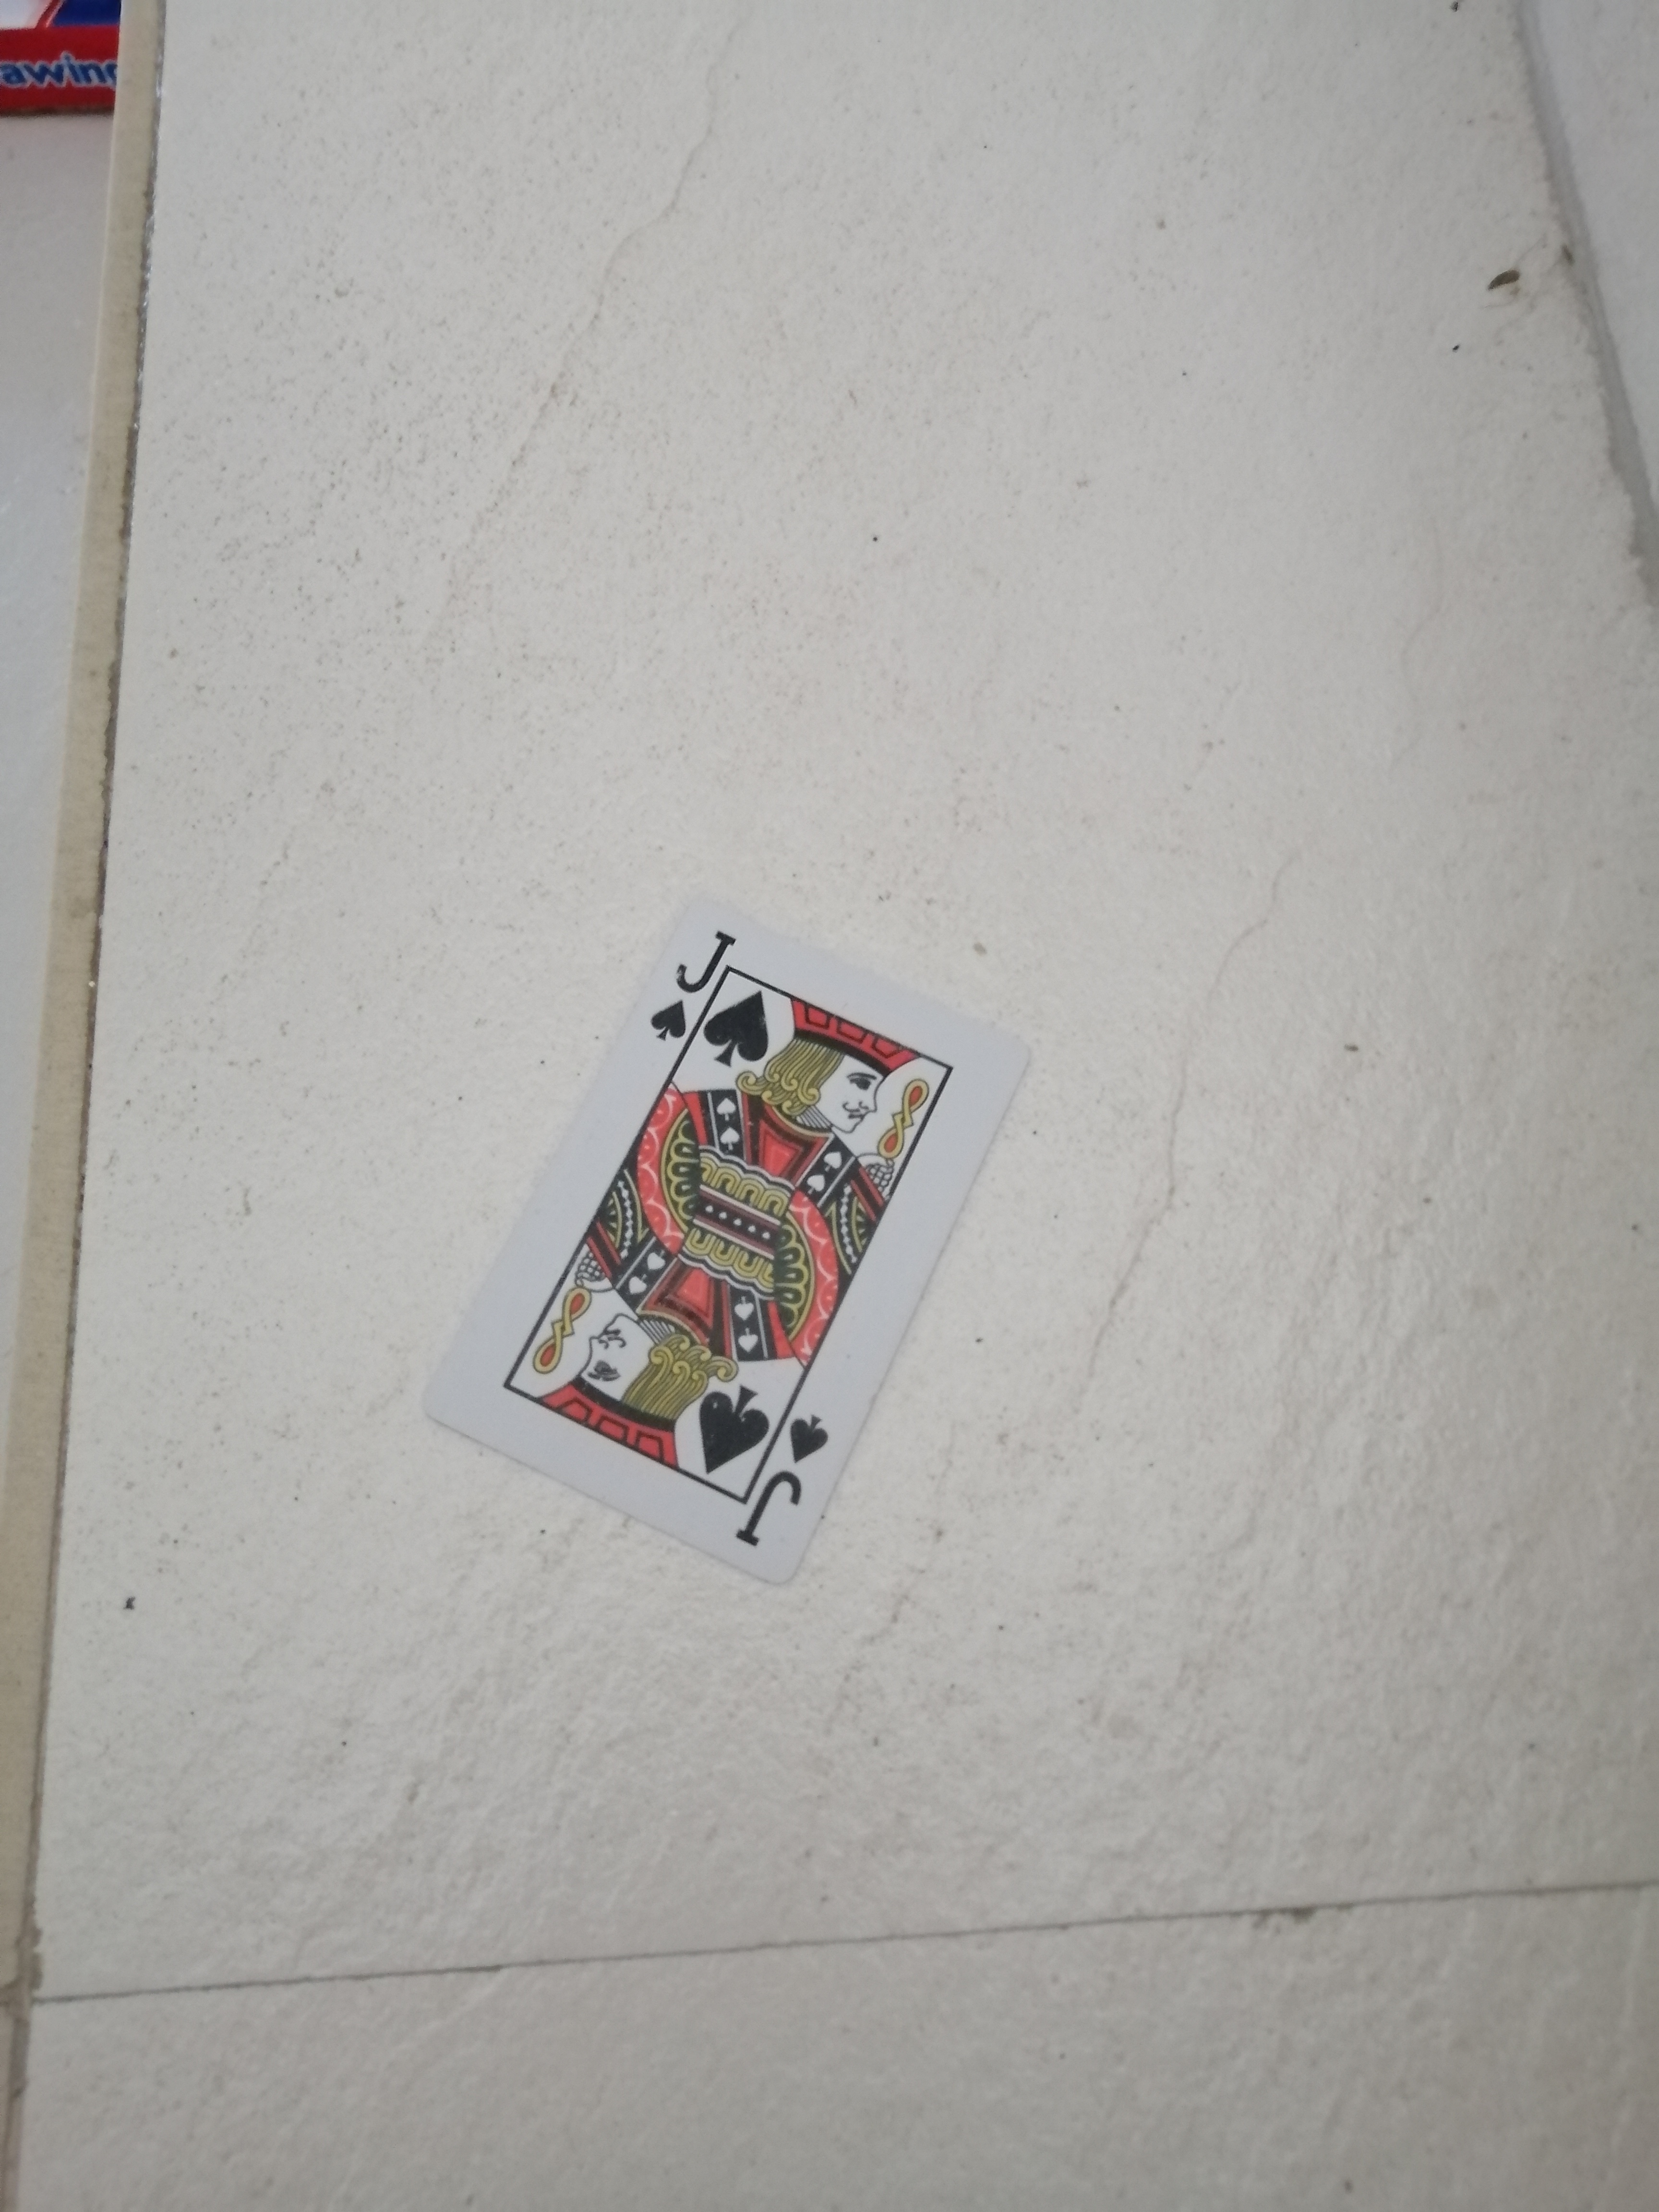jack: (451, 900, 983, 1576)
